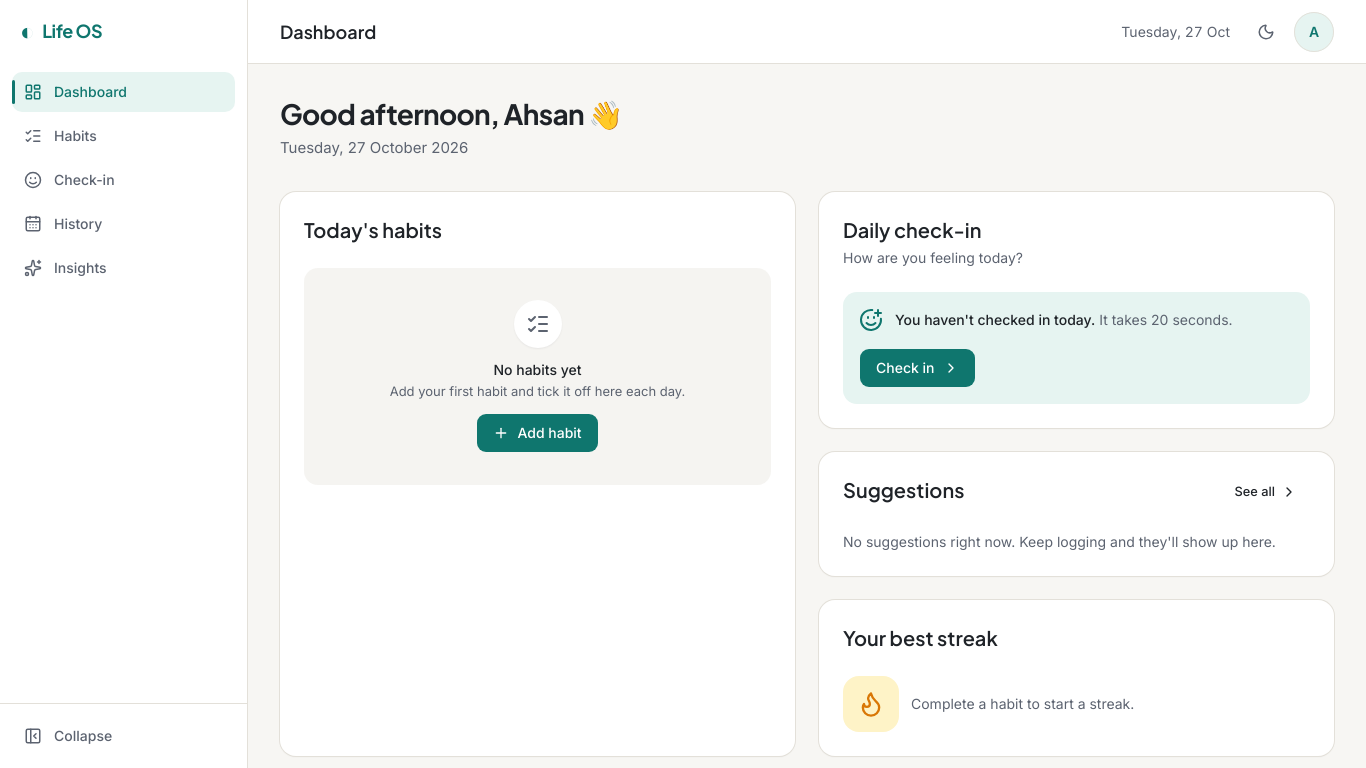
it: app shell › logs out from the user menu
Click the button named "Open user menu" at (1314, 32), box [1294,12,1334,52]
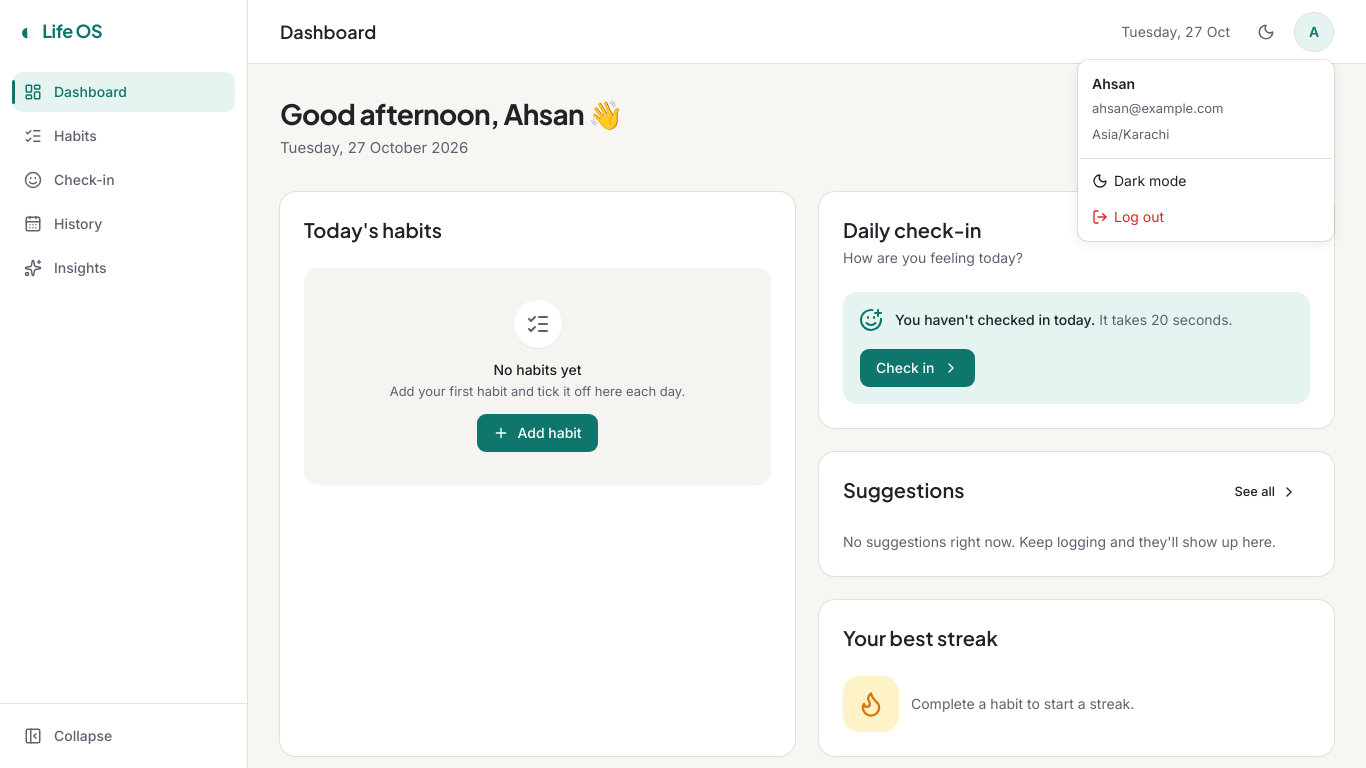
Click the menu item "Log out" at (1128, 216), box [1092,208,1164,225]
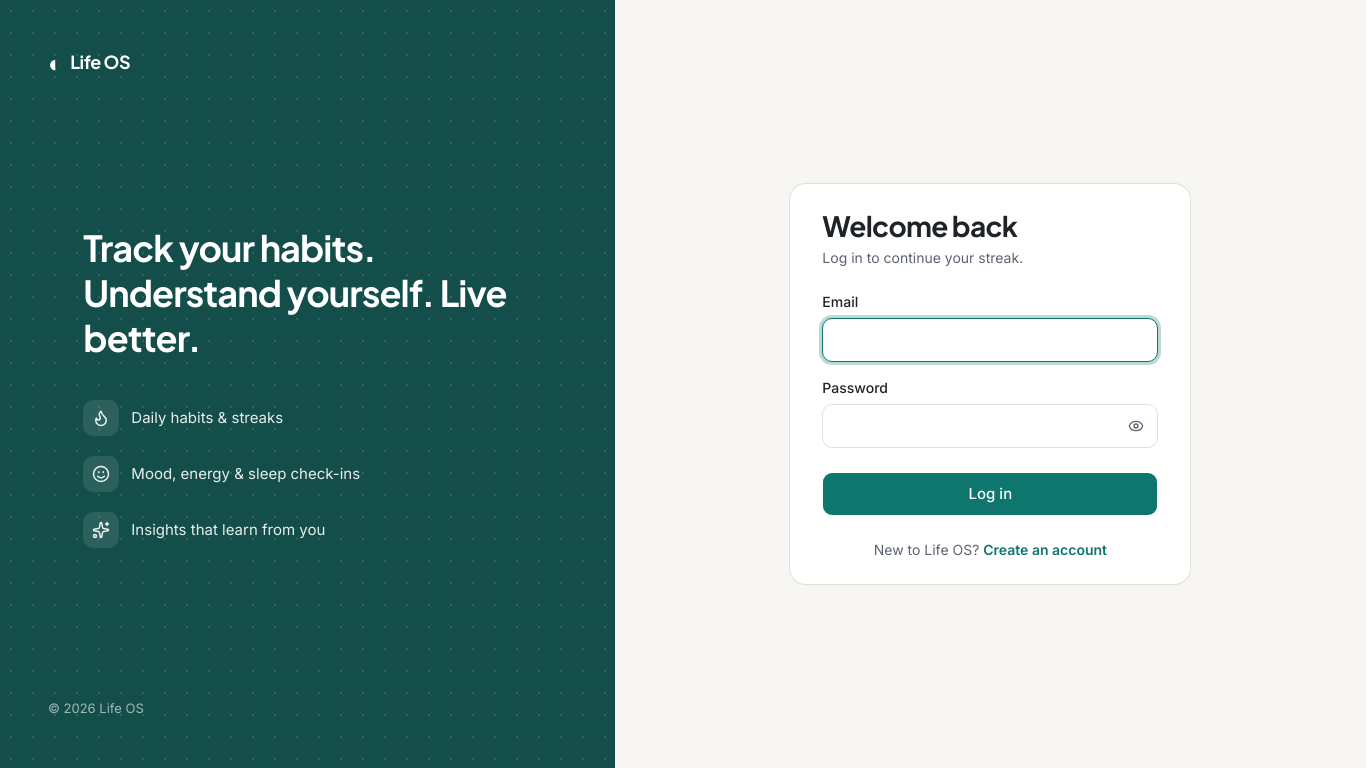
Check: the heading "Welcome back" is shown, box [822,208,1017,243]
